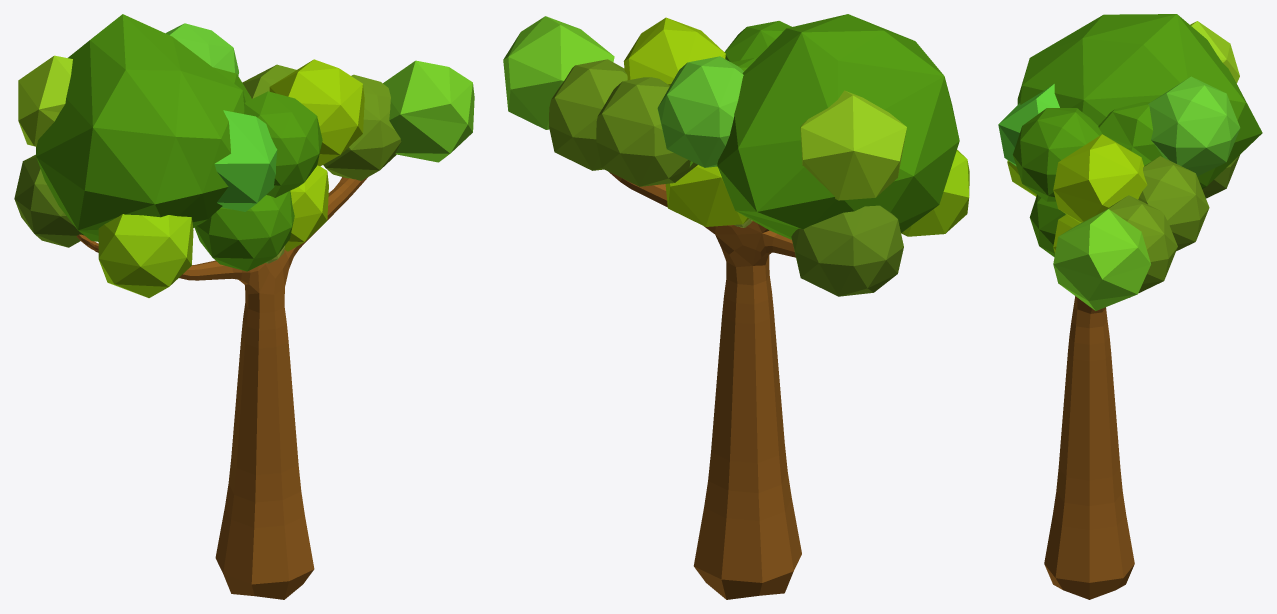
File: tree10.fbx
3 renders of one model, left to right at view 1: azimuth 30°, elevation 25°; view 2: azimuth 150°, elevation 25°; view 3: azimuth 270°, elevation 25°, orthographic. The views are drawn at different scales.
Visible parts, largest first — view 1: Icosphere.014, Cube, Icosphere.002, Icosphere.009, Icosphere.001, Icosphere.011, Icosphere.013, Icosphere.004, Icosphere.003, Icosphere.007, Icosphere.008, Icosphere.010 (+2 smaller); view 2: Icosphere.014, Cube, Icosphere.007, Icosphere.008, Icosphere.012, Icosphere.006, Icosphere.002, Icosphere.003, Icosphere.001, Icosphere.010, Icosphere.009, Icosphere.013; view 3: Cube, Icosphere.014, Icosphere.002, Icosphere.006, Icosphere.001, Icosphere.013, Icosphere.012, Icosphere.003, Icosphere.005, Icosphere.004, Icosphere.011, Icosphere.007 (+2 smaller).
Part boxes in pixels (x1,y1,x2,y2): Icosphere.014: [36, 14, 245, 241]; Cube: [76, 177, 367, 599]; Icosphere.002: [383, 60, 474, 162]; Icosphere.009: [98, 214, 193, 297]; Icosphere.001: [269, 59, 364, 166]; Icosphere.011: [194, 191, 294, 271]; Icosphere.013: [244, 91, 322, 197]; Icosphere.004: [214, 110, 277, 211]; Icosphere.003: [323, 74, 401, 180]; Icosphere.007: [18, 55, 72, 146]; Icosphere.008: [14, 154, 83, 247]; Icosphere.010: [284, 165, 328, 251]; Icosphere.014: [717, 14, 959, 239]; Cube: [608, 171, 801, 599]; Icosphere.007: [800, 90, 906, 200]; Icosphere.008: [791, 205, 903, 296]; Icosphere.012: [596, 77, 697, 186]; Icosphere.006: [657, 56, 743, 167]; Icosphere.002: [503, 16, 614, 129]; Icosphere.003: [549, 59, 627, 170]; Icosphere.001: [623, 17, 725, 85]; Icosphere.010: [665, 165, 748, 226]; Icosphere.009: [901, 149, 969, 236]; Icosphere.013: [724, 21, 791, 62]; Cube: [1044, 296, 1134, 599]; Icosphere.014: [1017, 14, 1262, 188]; Icosphere.002: [1053, 209, 1150, 310]; Icosphere.006: [1148, 76, 1240, 176]; Icosphere.001: [1053, 134, 1147, 223]; Icosphere.013: [1013, 108, 1101, 201]; Icosphere.012: [1138, 156, 1209, 250]; Icosphere.003: [1103, 195, 1177, 293]; Icosphere.005: [1098, 102, 1162, 165]; Icosphere.004: [998, 84, 1059, 166]; Icosphere.011: [1029, 195, 1066, 256]; Icosphere.007: [1190, 21, 1239, 83].
Bounding box in the file's own units: 899 × 1194 × 536.
